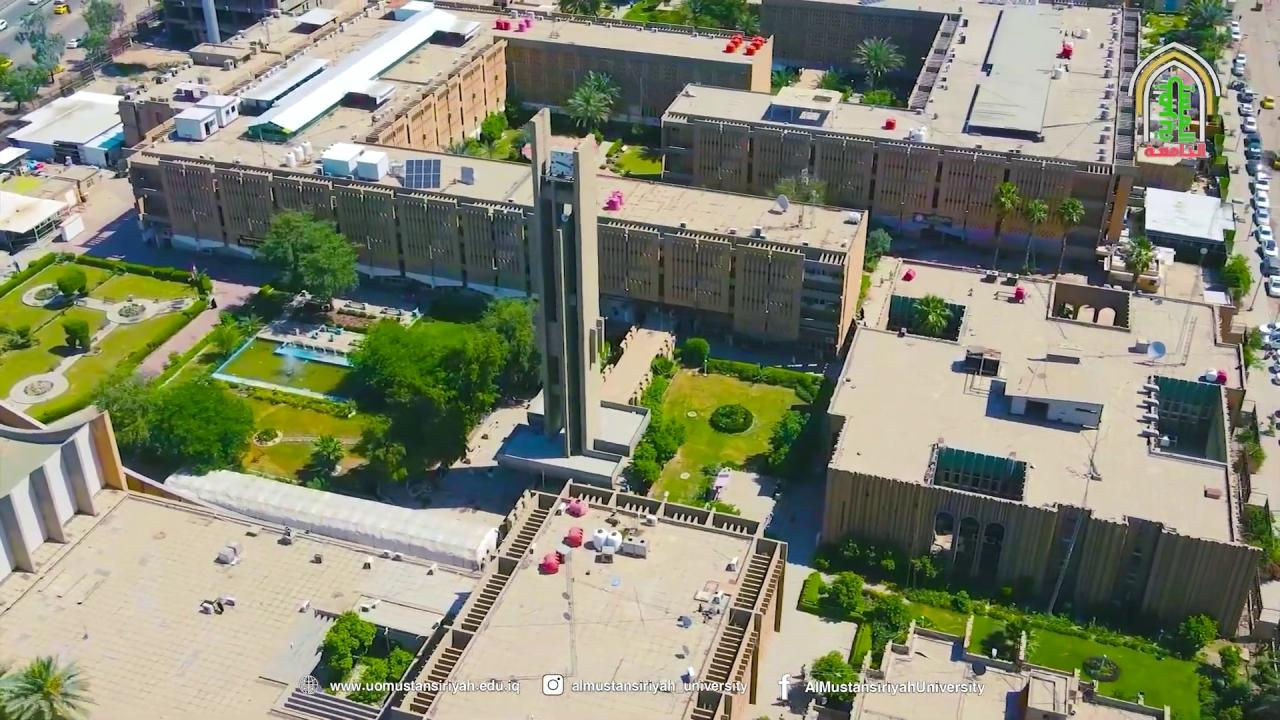car: (1245, 140, 1266, 164), (1252, 208, 1273, 225), (1264, 274, 1279, 297), (1242, 159, 1263, 174), (1254, 225, 1272, 242), (1238, 100, 1254, 117), (1250, 190, 1269, 204), (1260, 256, 1280, 269), (1255, 168, 1271, 184), (1244, 114, 1258, 132), (1263, 240, 1278, 256), (1239, 87, 1255, 102), (1236, 52, 1248, 67), (1233, 63, 1244, 76), (65, 38, 79, 48), (1264, 95, 1272, 107)
fountain: (230, 337, 354, 396)
person: (13, 260, 20, 273)
tree: (344, 314, 508, 483), (254, 204, 364, 311), (144, 374, 255, 474), (0, 653, 98, 719), (476, 296, 540, 392), (90, 369, 162, 452), (1138, 0, 1231, 62), (297, 232, 363, 310), (256, 205, 327, 273), (628, 411, 686, 488), (443, 109, 526, 161), (347, 646, 414, 706), (564, 69, 622, 136), (321, 609, 376, 679), (353, 417, 409, 483), (13, 13, 64, 82), (851, 34, 906, 93), (808, 649, 859, 705), (989, 181, 1021, 270), (1243, 500, 1279, 578), (79, 0, 125, 60), (764, 408, 809, 467), (866, 591, 911, 650), (1054, 196, 1084, 277), (1, 63, 49, 109), (1119, 233, 1156, 289), (1022, 197, 1048, 273), (1218, 252, 1252, 305), (826, 570, 865, 616), (371, 439, 409, 483), (206, 312, 243, 357), (1002, 616, 1035, 666), (912, 292, 949, 336), (1142, 11, 1188, 46), (629, 438, 661, 488), (1177, 611, 1218, 648), (1181, 0, 1229, 31), (310, 432, 346, 472), (479, 109, 508, 157), (639, 374, 670, 418), (1080, 653, 1116, 690), (815, 65, 854, 99), (709, 402, 751, 433), (864, 227, 892, 270), (906, 553, 939, 589), (1240, 325, 1262, 377), (552, 0, 612, 19), (1218, 642, 1243, 687), (0, 323, 38, 352), (697, 461, 723, 500), (54, 266, 86, 297), (679, 336, 709, 369), (60, 319, 90, 351), (649, 352, 678, 379), (854, 273, 871, 319), (597, 339, 616, 379), (880, 550, 896, 582)
